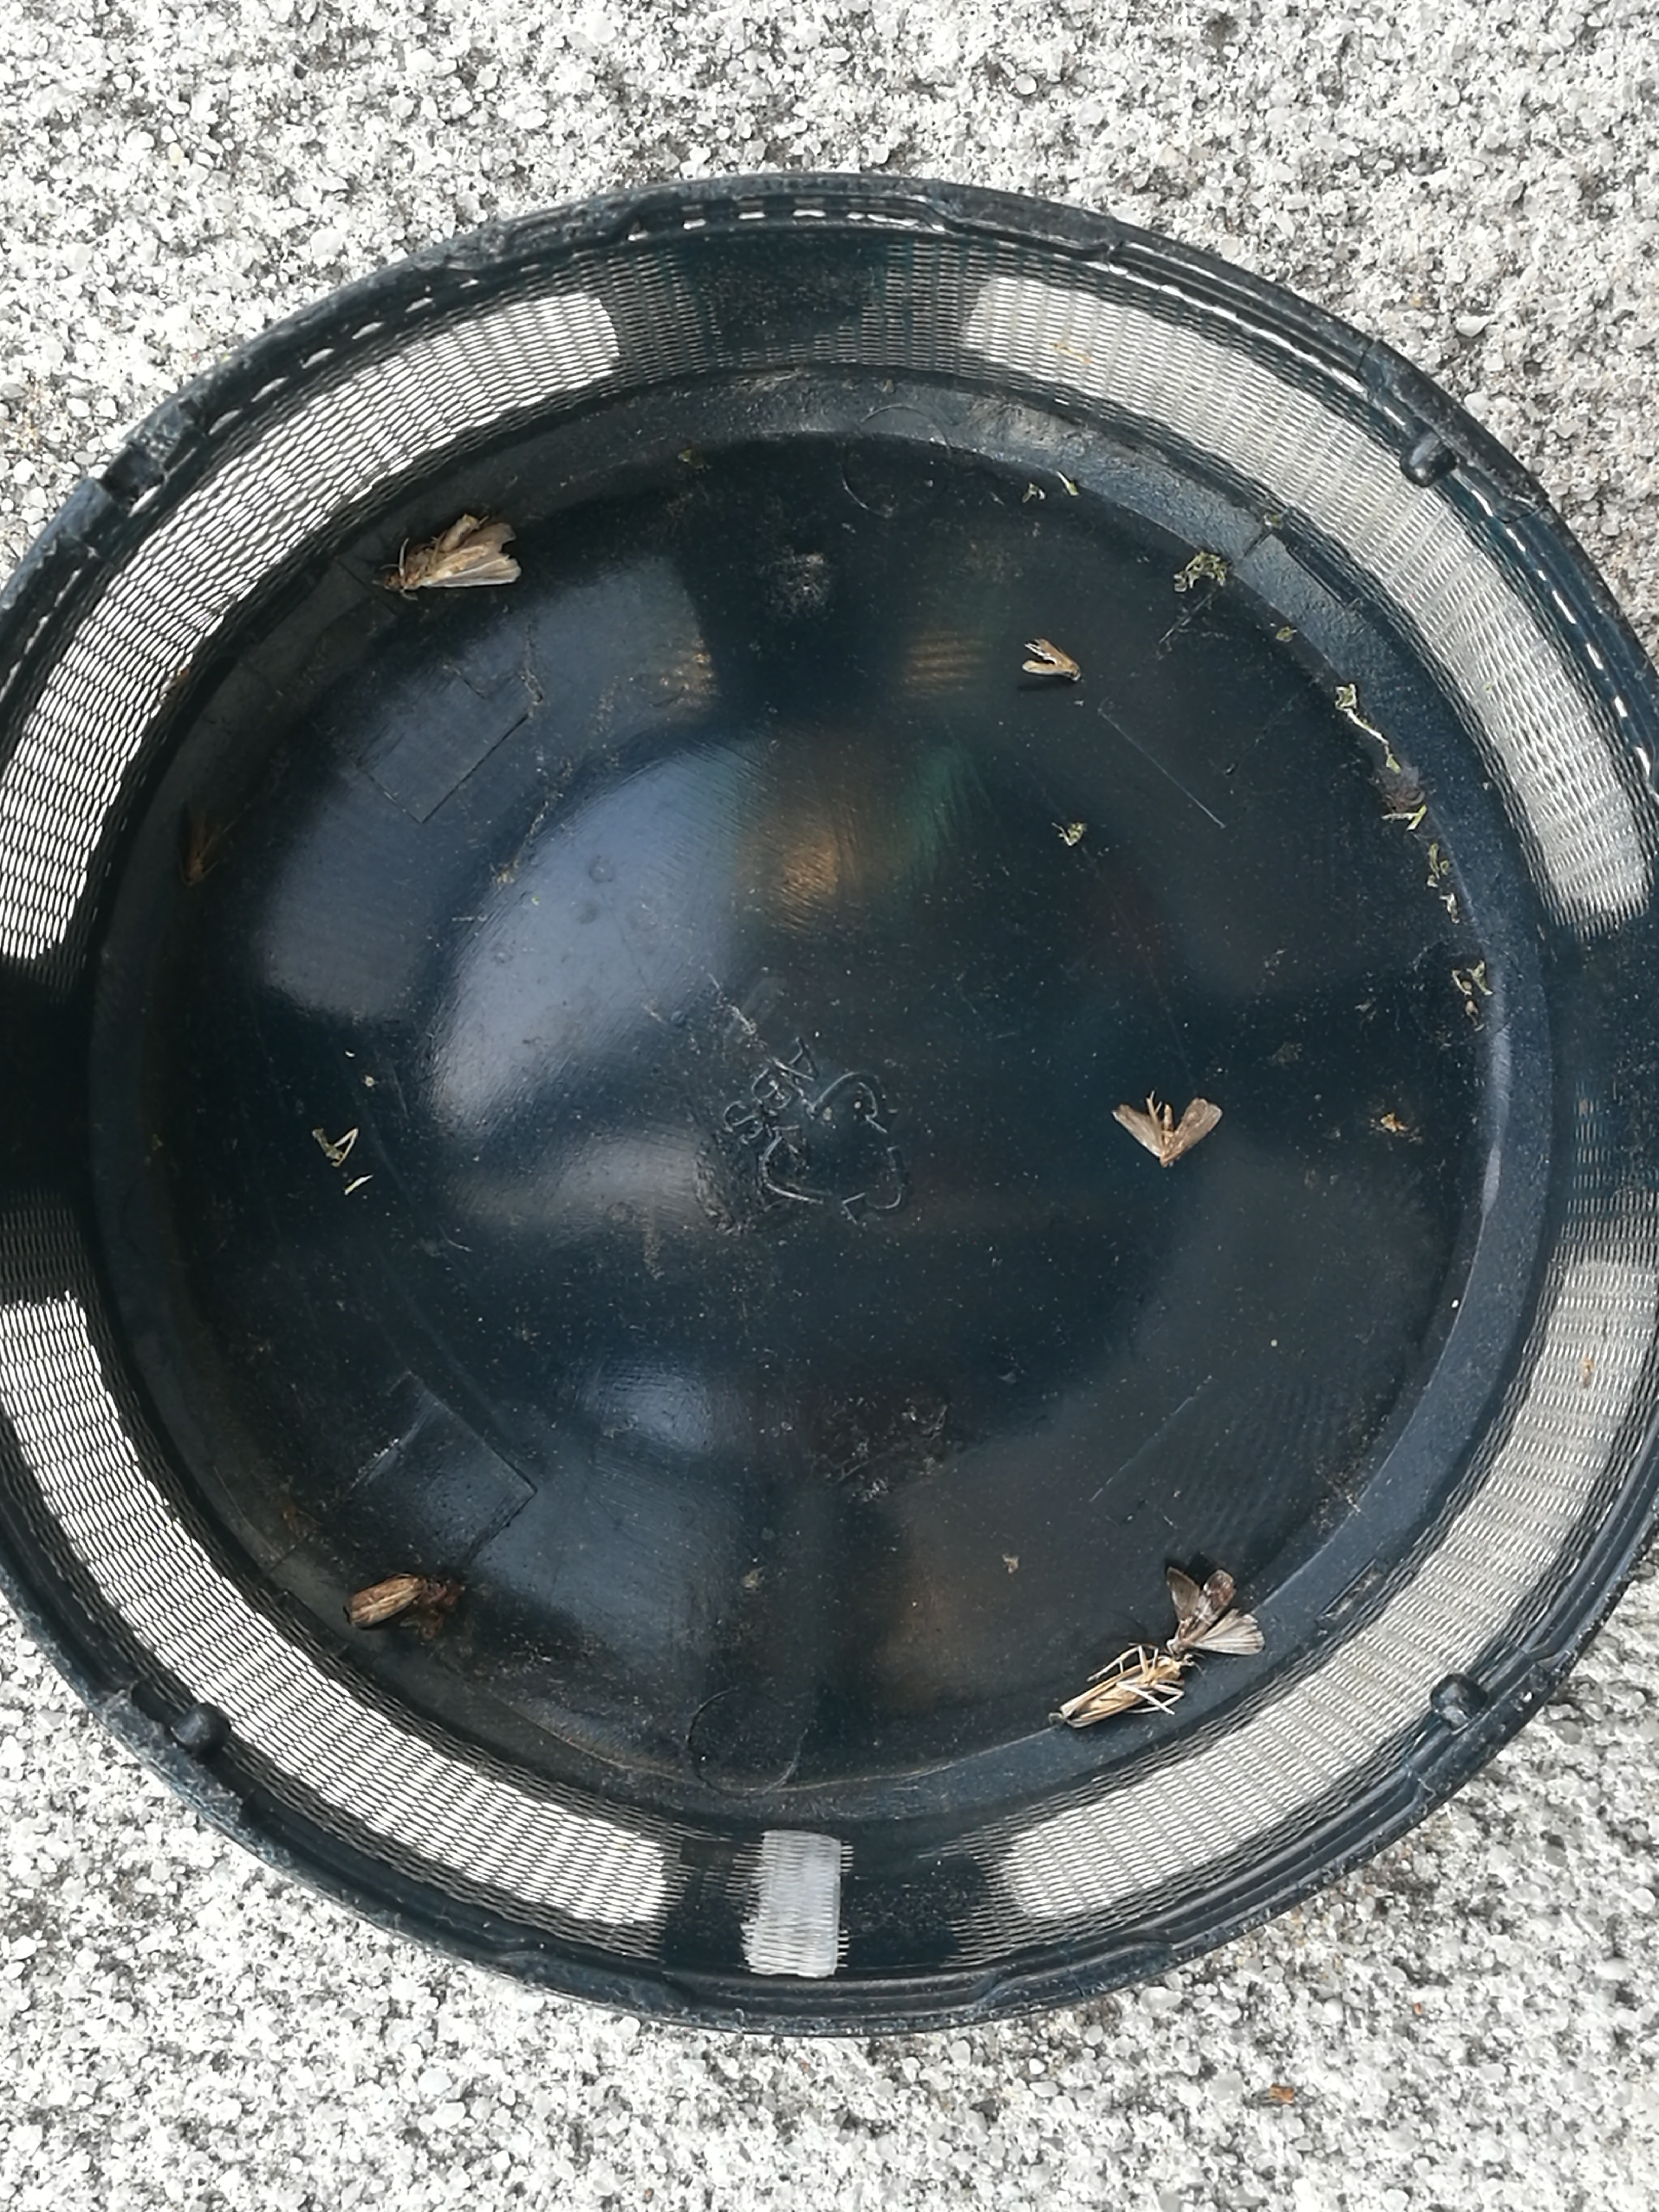mosquito: (1058, 1651, 1194, 1728)
moth: (380, 516, 519, 590), (1168, 1568, 1263, 1651), (1114, 1099, 1222, 1165), (349, 1575, 427, 1625), (1025, 639, 1079, 678)
